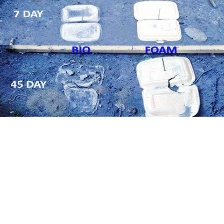foam_box: (134, 55, 202, 117), (51, 58, 107, 114), (131, 0, 184, 45), (57, 2, 102, 45)
